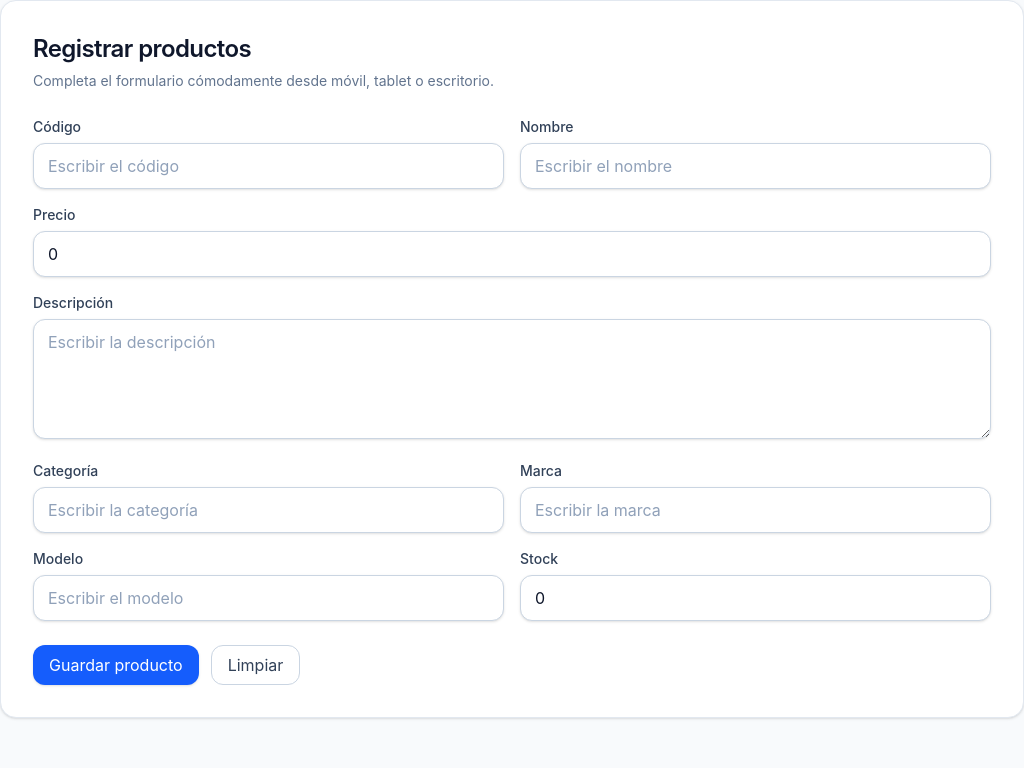
it: auth and page flows › clears the form when reset is requested after editing a field
Type "ABC" into the field labelled "Código" at (268, 166), box [33,143,504,189]
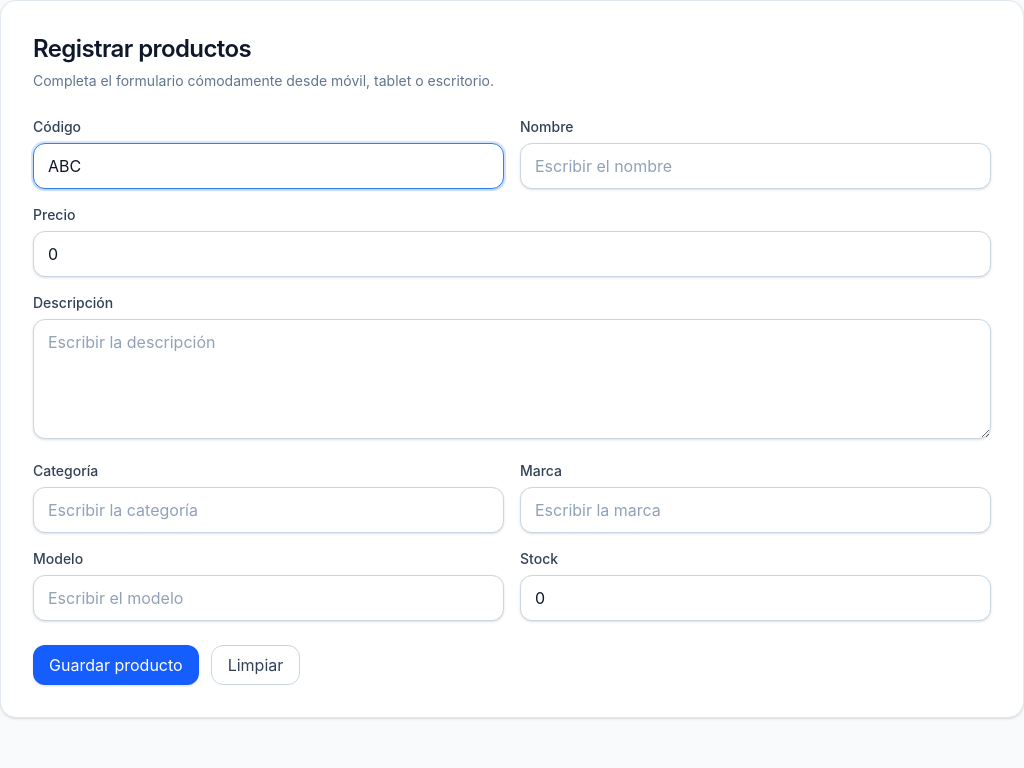
Click the button "Limpiar" at (256, 665), box [211,645,300,685]
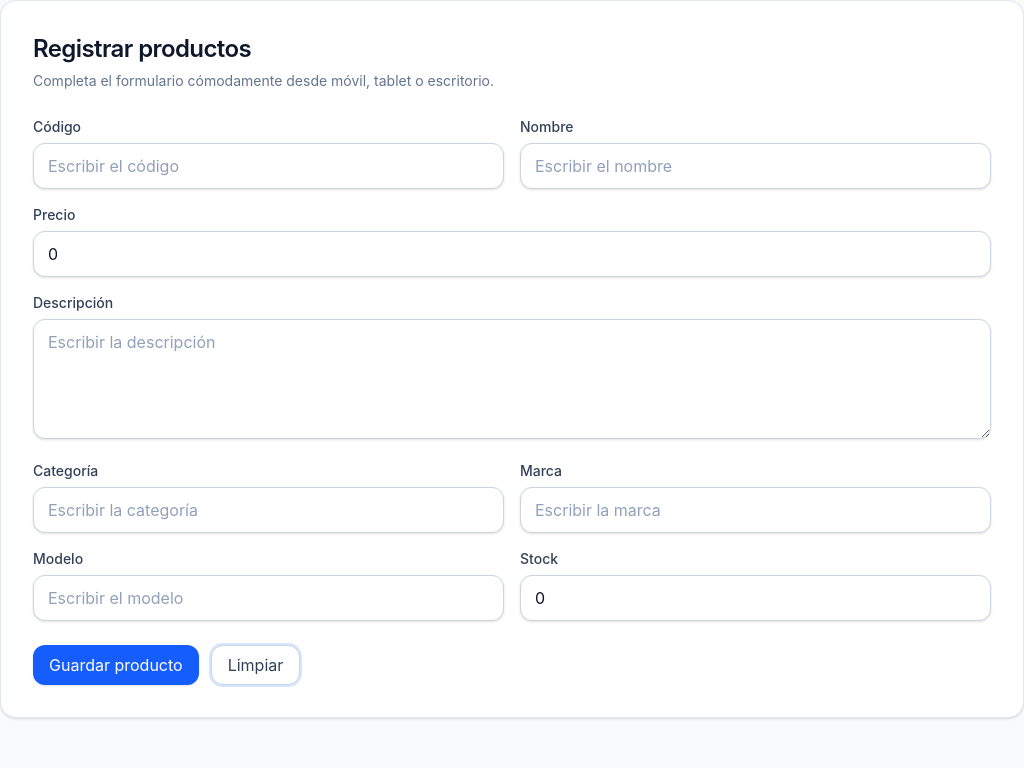
Check: the field labelled "Código" is empty, box [33,143,504,189]
